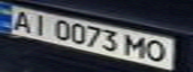0: (48, 17, 72, 42), (66, 20, 87, 46)
3: (100, 27, 121, 54)
7: (84, 24, 103, 49)
A: (6, 8, 36, 33)
I: (27, 11, 54, 36)
M: (124, 33, 148, 58)
O: (142, 37, 172, 63)
